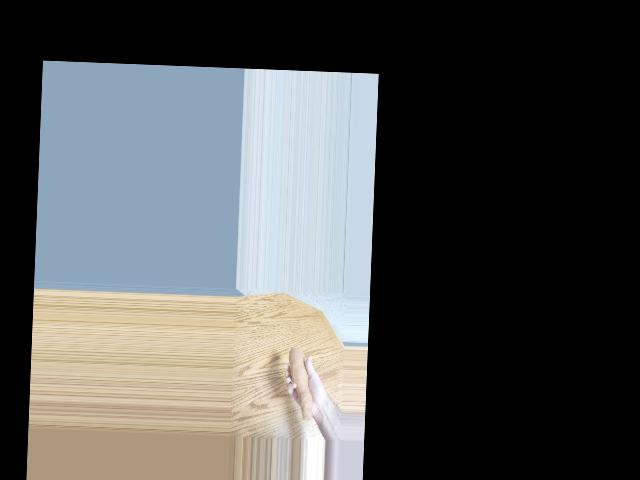sweet_potato: (286, 345, 315, 419)
